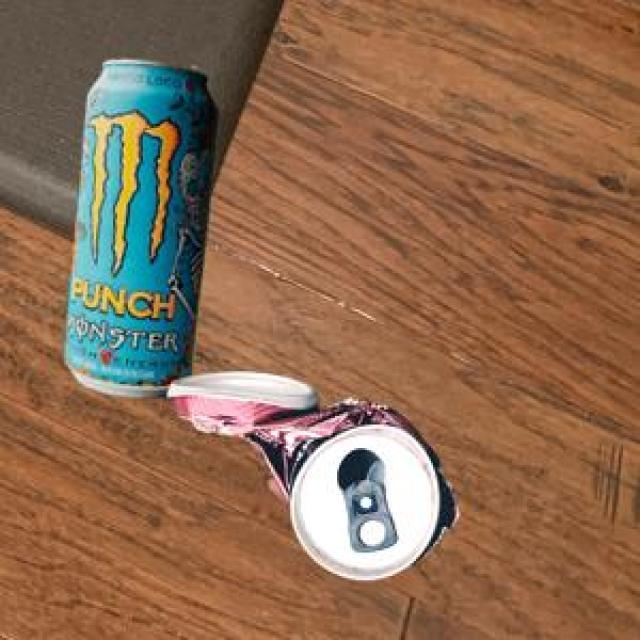Can: (165, 370, 455, 577), (63, 57, 214, 394)
